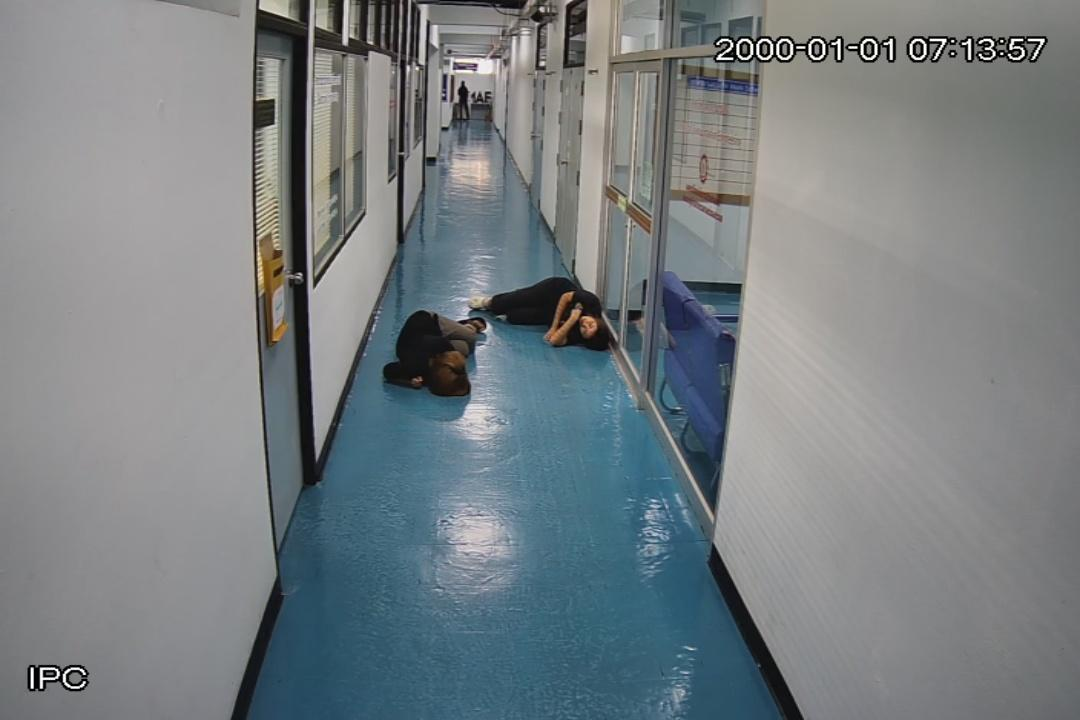fall: (474, 279, 604, 348), (387, 310, 482, 396)
